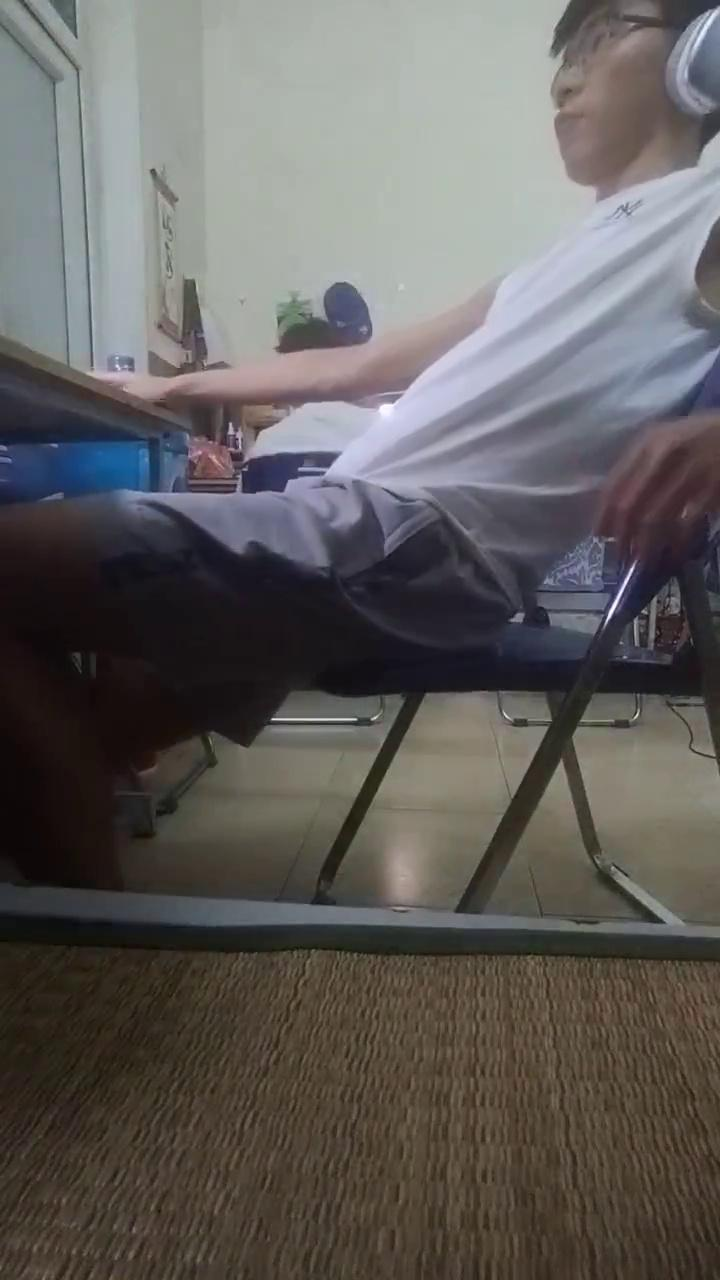BadPosture: (0, 0, 719, 890)
